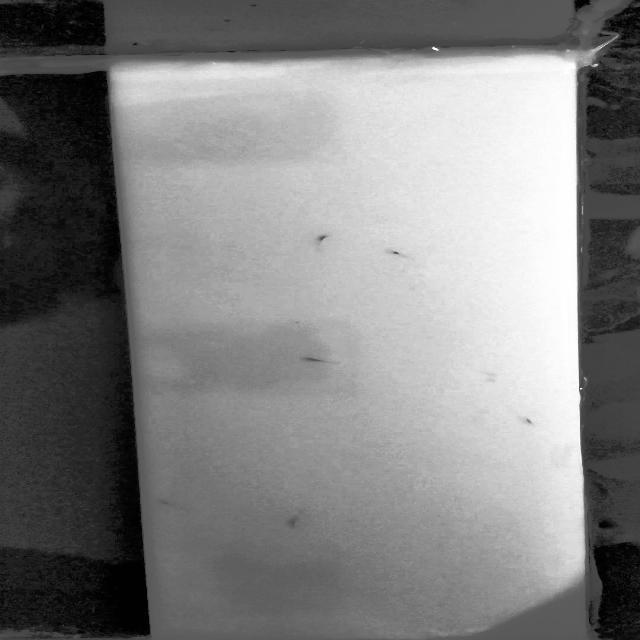shrimp: (279, 508, 312, 532), (376, 243, 412, 264), (306, 228, 341, 248), (291, 353, 336, 368)
